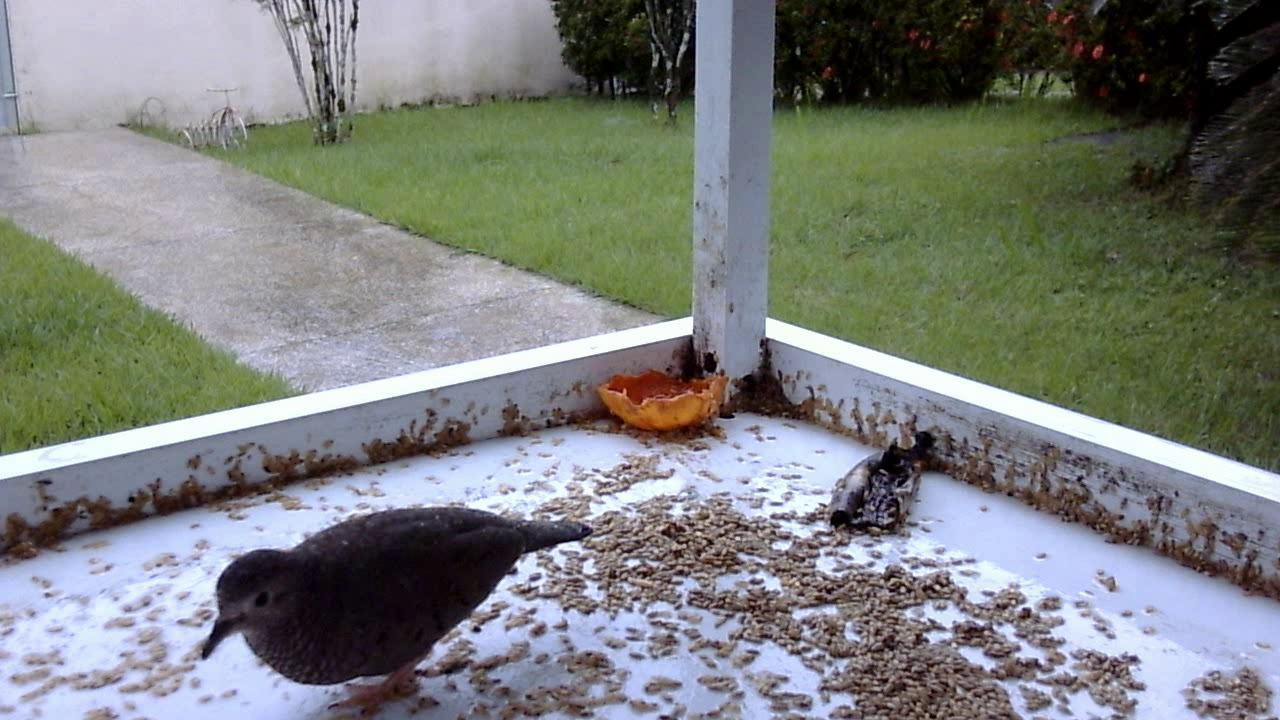rolinha: (179, 491, 603, 715)
